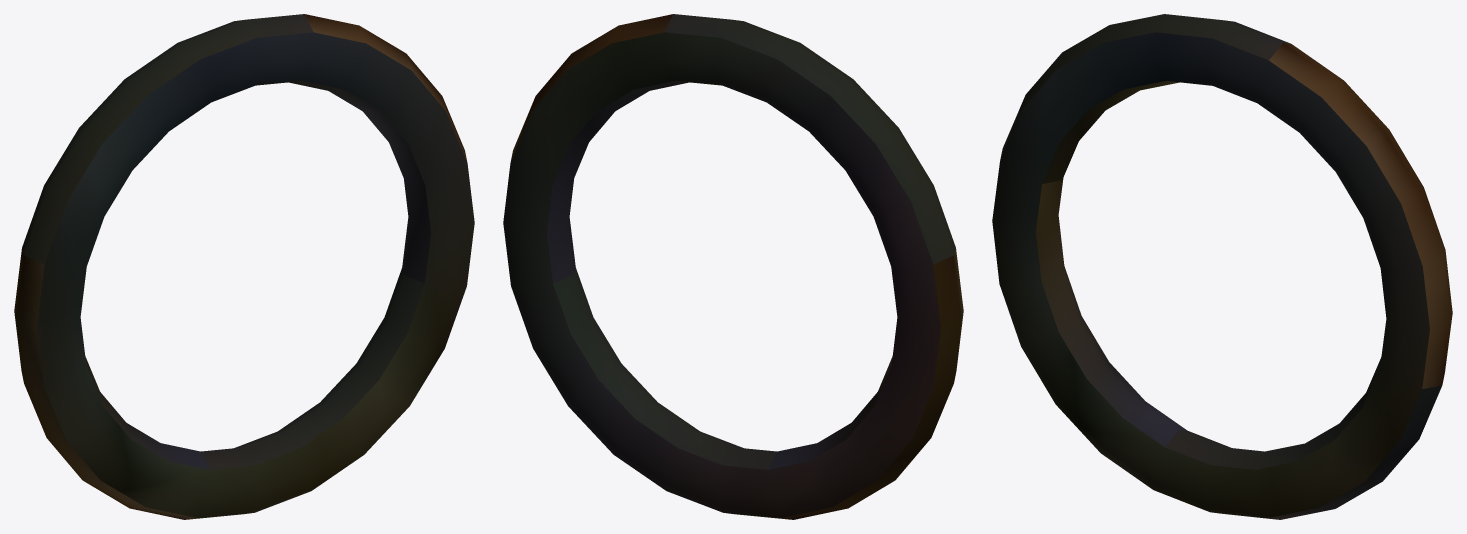
File: handle-1.glb
The picture shows the model from 3 angles, left to right: view 1: azimuth 30°, elevation 25°; view 2: azimuth 150°, elevation 25°; view 3: azimuth 330°, elevation 25°; orthographic projection.
Parts seen in each view (by area): view 1: world; view 2: world; view 3: world.
Boxes of the visible parts, left/top/right/bottom form: world: left=14, top=14, right=474, bottom=519; world: left=503, top=14, right=963, bottom=519; world: left=992, top=14, right=1452, bottom=519.
Size of the model in its own units: 0.0308 by 0.0319 by 0.00377.
1 material, 1 textured.
